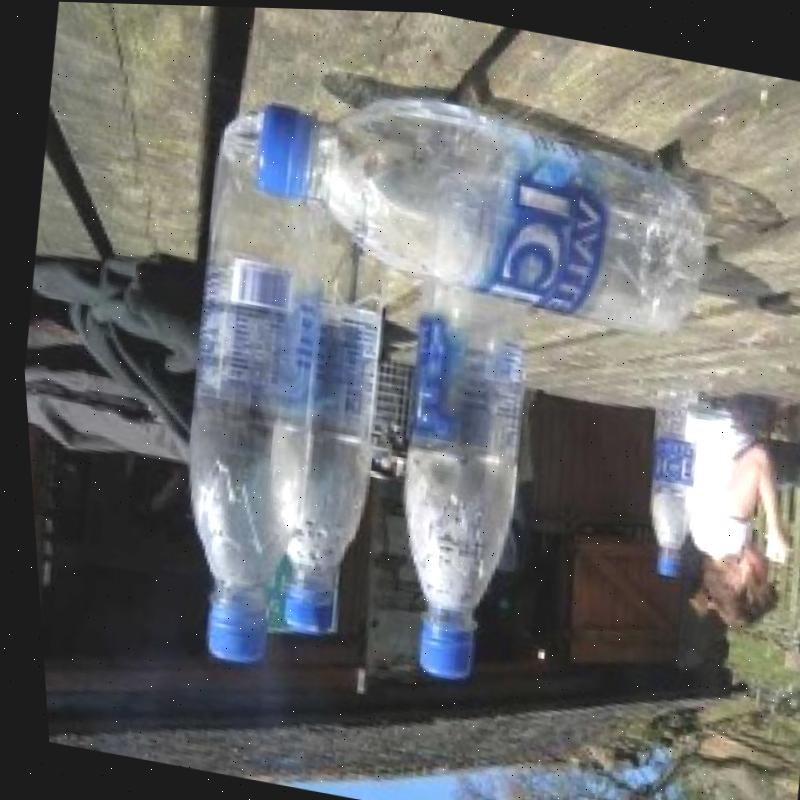botella: (233, 63, 723, 346), (127, 105, 357, 675), (236, 189, 414, 639), (358, 282, 550, 684), (622, 377, 710, 578)
